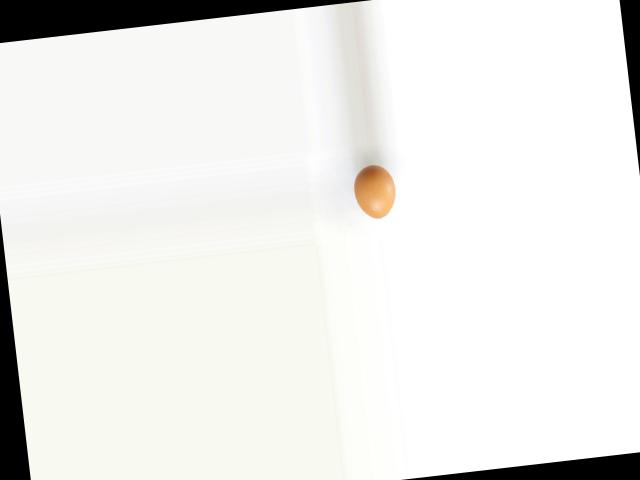egg: (350, 162, 397, 221)
